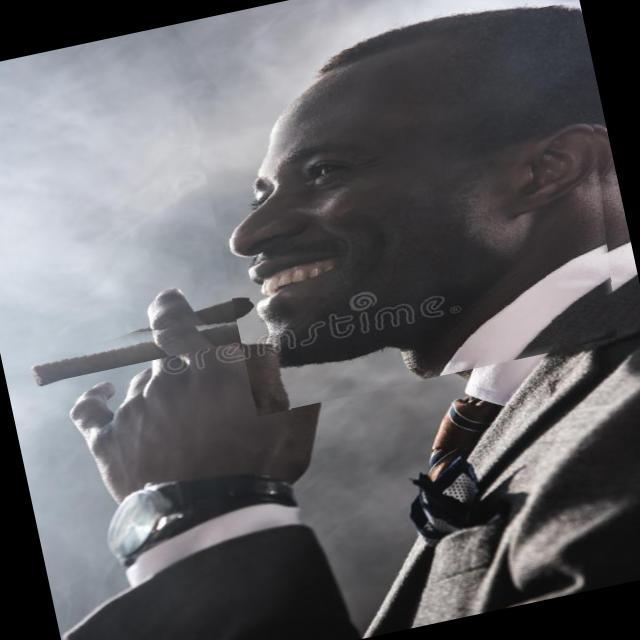cigarette: (9, 287, 292, 388)
